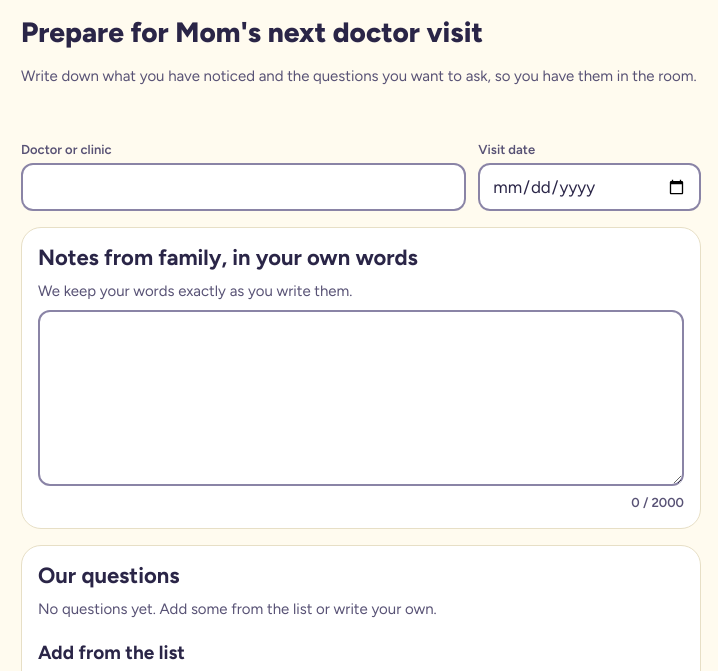
Test: visit sheet page › round trip: edits are saved and come back after a reload
Later steps or results of the test are not shown.
Check: the heading "Prepare for Mom's next doctor visit" is shown, box [21,15,483,49]
Step 1. Type "Dr. Park" into the field labelled "Doctor or clinic" → [244, 187], box [21,163,466,211]
Step 2. Type "2026-02-03" into the date field labelled "Visit date" → [590, 187], box [478,163,701,211]
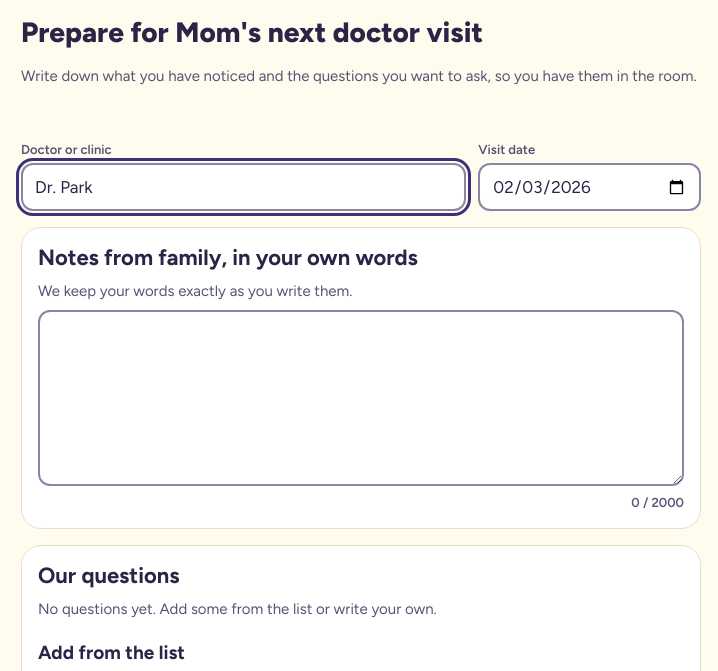
Step 3. Type "  Slept badly  " into the text box labelled "Notes from family, in your own words" → [361, 398], box [38,310,684,486]
(page scrolled)
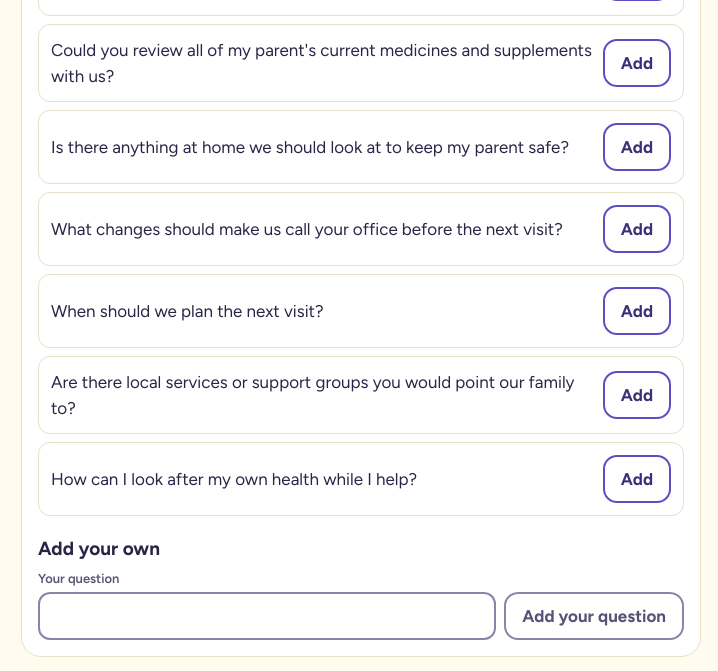
Step 4. Click the button with aria-label "Add: When should we plan the next visit" → [637, 311], box [603,287,671,335]
(page scrolled)
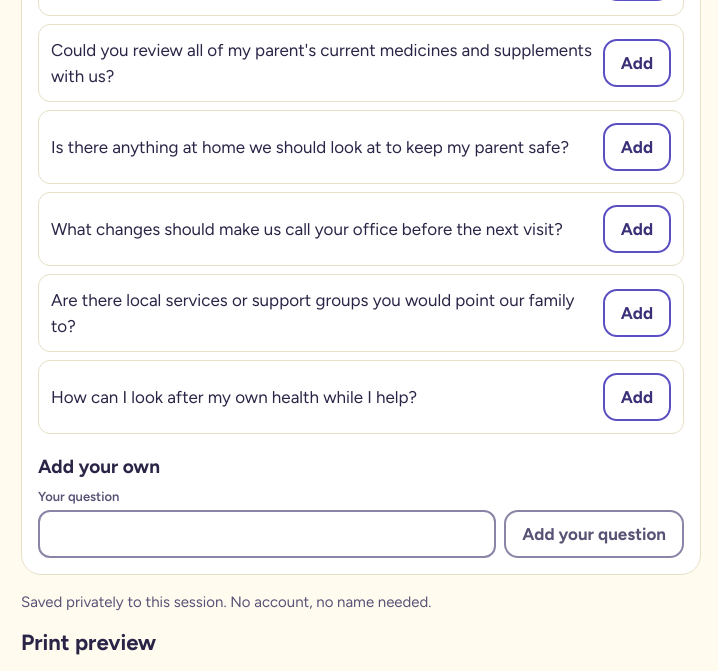
Step 5. Type "Is the new routine OK?" into the field labelled "Your question" → [267, 534], box [38,510,496,558]
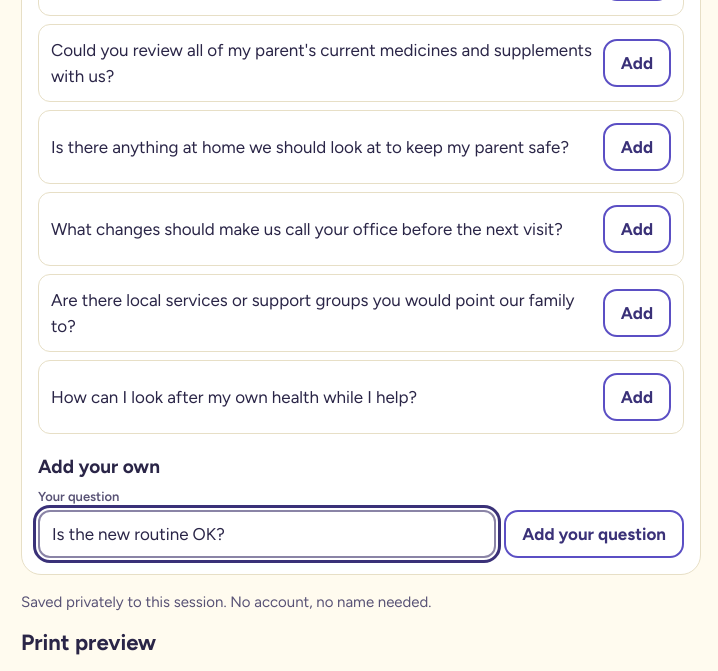
Step 6. Click the button "Add your question" → [594, 534], box [504,510,684,558]
(page scrolled)
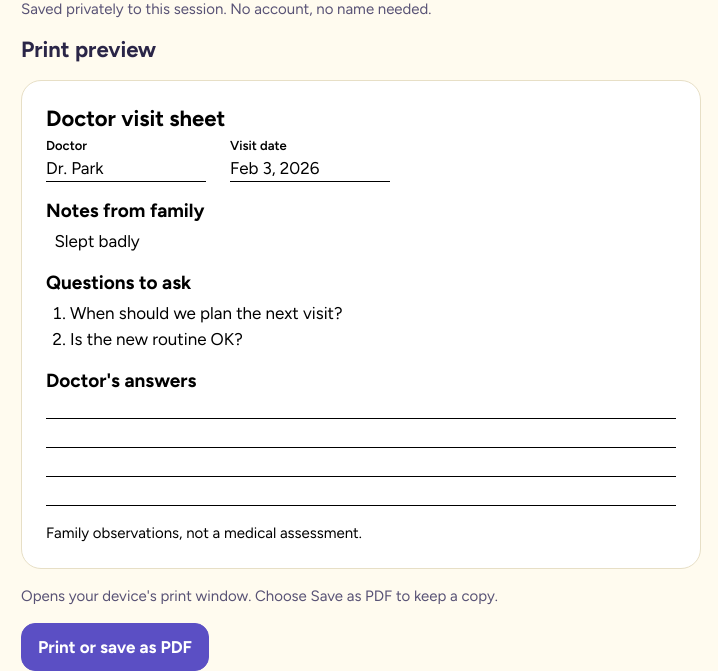
Step 7. Click the button "Print or save as PDF" → [115, 647], box [21,623,209,670]
(page scrolled)
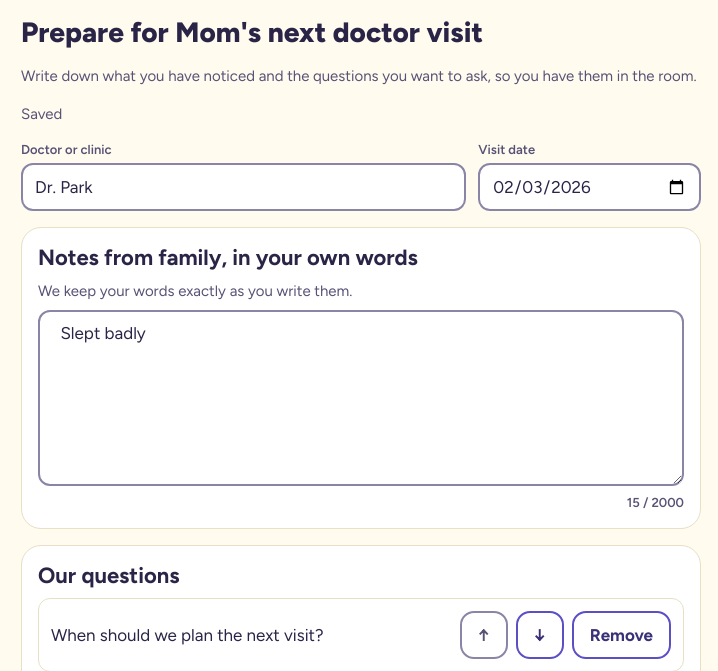
Check: the text "Saved" is shown, box [21,105,62,123]
